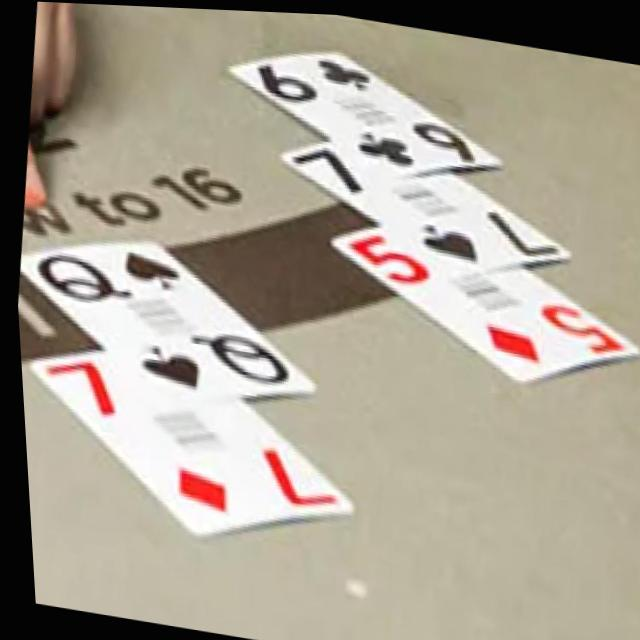Card-5: (325, 220, 636, 376)
Card-6: (226, 46, 500, 175)
Card-7: (24, 349, 348, 536), (277, 136, 568, 274)
Card-Q: (17, 238, 311, 409)
